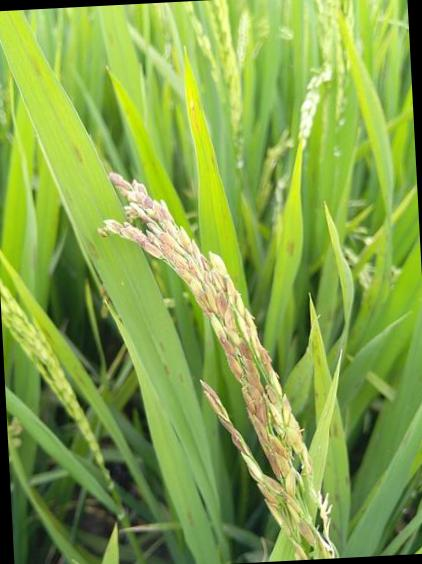Panicle Blight: (203, 385, 245, 454), (239, 343, 263, 402), (220, 333, 244, 384), (138, 207, 172, 233), (216, 292, 236, 331), (173, 255, 199, 283), (264, 449, 282, 481), (298, 518, 316, 547), (136, 232, 159, 254), (262, 474, 286, 495), (257, 484, 277, 509), (157, 232, 177, 257), (108, 172, 133, 192), (242, 386, 257, 419), (269, 436, 288, 460), (254, 419, 267, 448), (197, 293, 214, 315), (256, 396, 267, 424), (136, 196, 154, 212), (201, 254, 211, 270)
